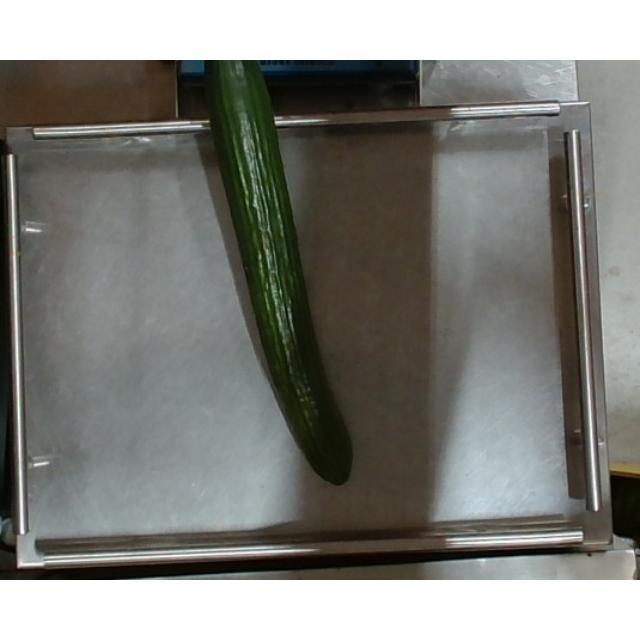cucumber: (182, 60, 352, 482)
